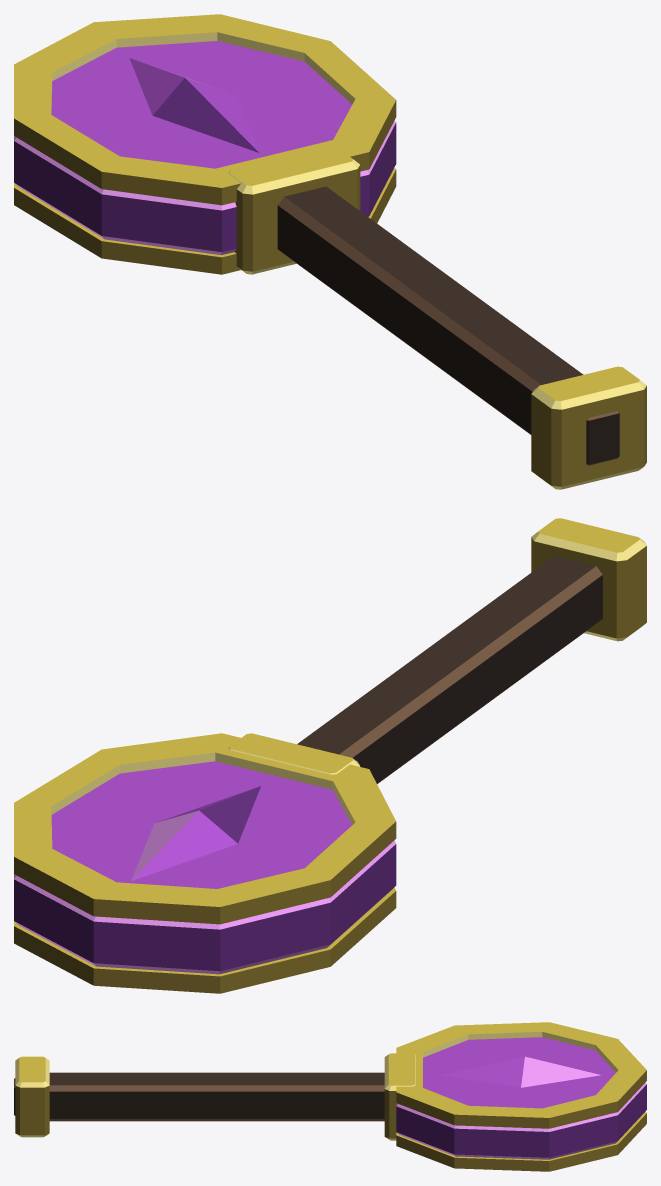
The model's file is amethyst_shovel.fbx.
3 views of the same model, one above another, from view 1: azimuth 30°, elevation 25°; view 2: azimuth 150°, elevation 25°; view 3: azimuth 270°, elevation 25° (orthographic). The views are drawn at different scales.
Parts seen in each view (by area): view 1: amethyst_shovel; view 2: amethyst_shovel; view 3: amethyst_shovel.
Part boxes in pixels (box(x1,y1,x2,y2)): amethyst_shovel: box(14, 14, 646, 489); amethyst_shovel: box(14, 518, 646, 993); amethyst_shovel: box(14, 1022, 646, 1171).
Bounding box in the file's own units: 0.86 × 0.32 × 2.4.
Materials: 1 (1 with a texture image).
